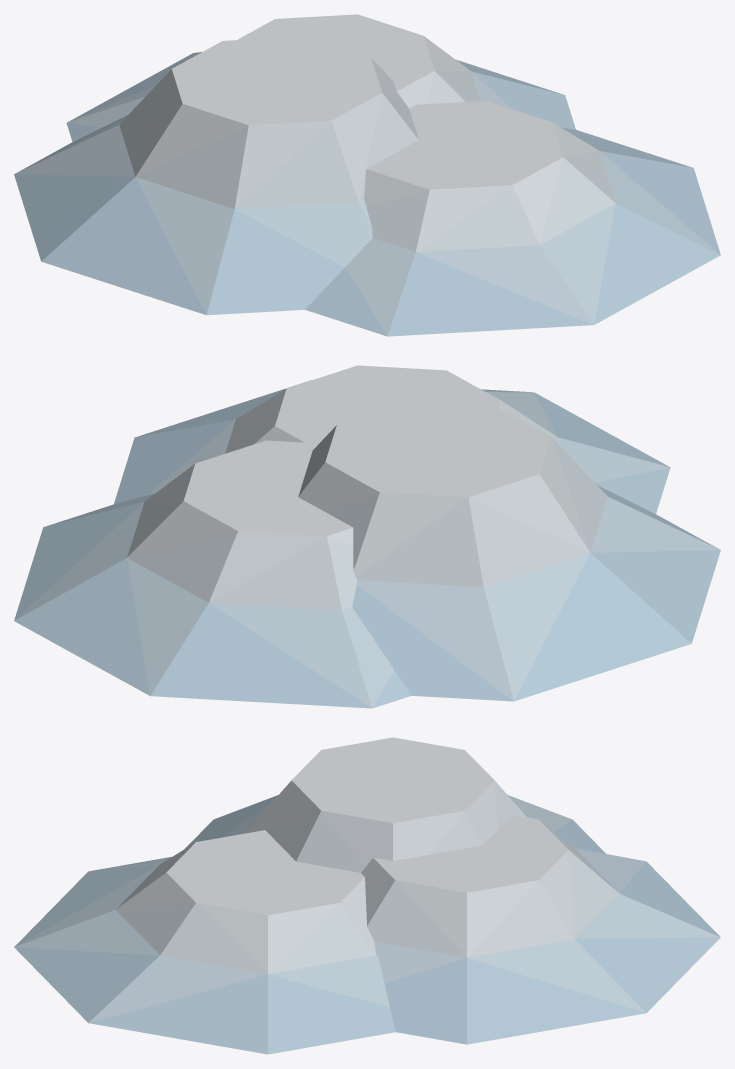
File: snow_pile.glb
3 renders of one model, top to bottom at view 1: azimuth 30°, elevation 25°; view 2: azimuth 150°, elevation 25°; view 3: azimuth 270°, elevation 25°, orthographic. The views are drawn at different scales.
Visible parts, largest first — view 1: snow_pile; view 2: snow_pile; view 3: snow_pile.
Part boxes in pixels (x1,y1,x2,y2): snow_pile: [14, 14, 720, 336]; snow_pile: [14, 365, 720, 708]; snow_pile: [14, 737, 720, 1054].
Bounding box in the file's own units: 1.96 × 0.3951 × 2.2.
